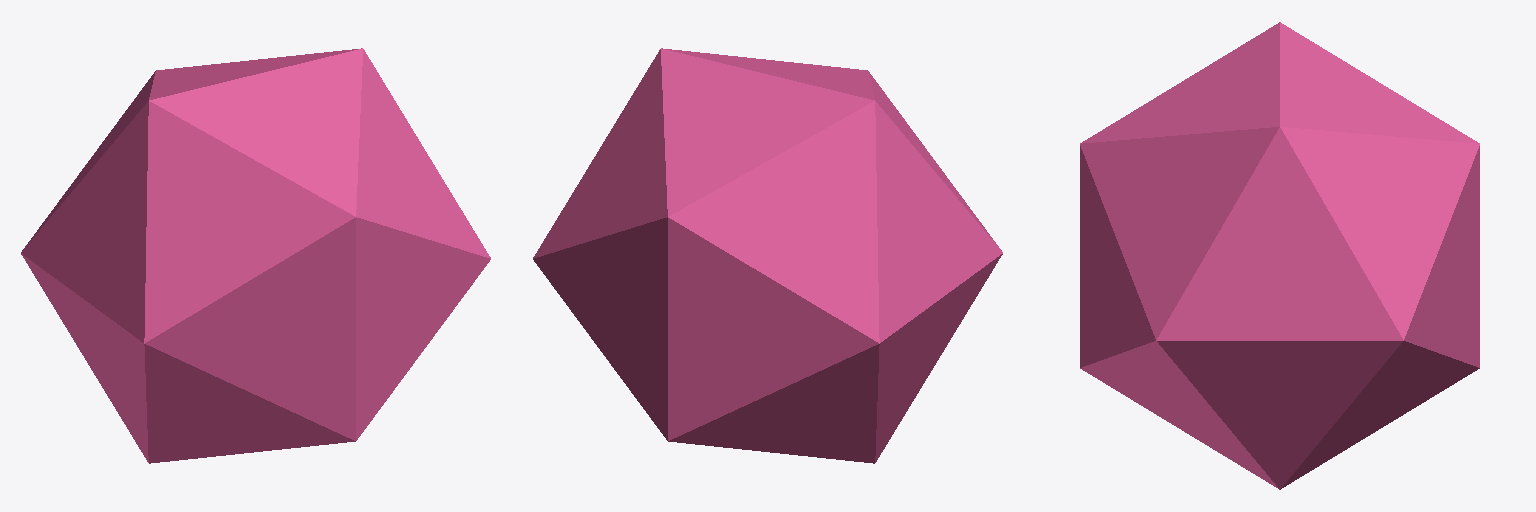
Rendered from icosahedron.obj.
3 renders of one model, left to right at view 1: azimuth 30°, elevation 25°; view 2: azimuth 150°, elevation 25°; view 3: azimuth 270°, elevation 25°, orthographic.
Size of the model in its own units: 1.7 by 1.7 by 1.7.